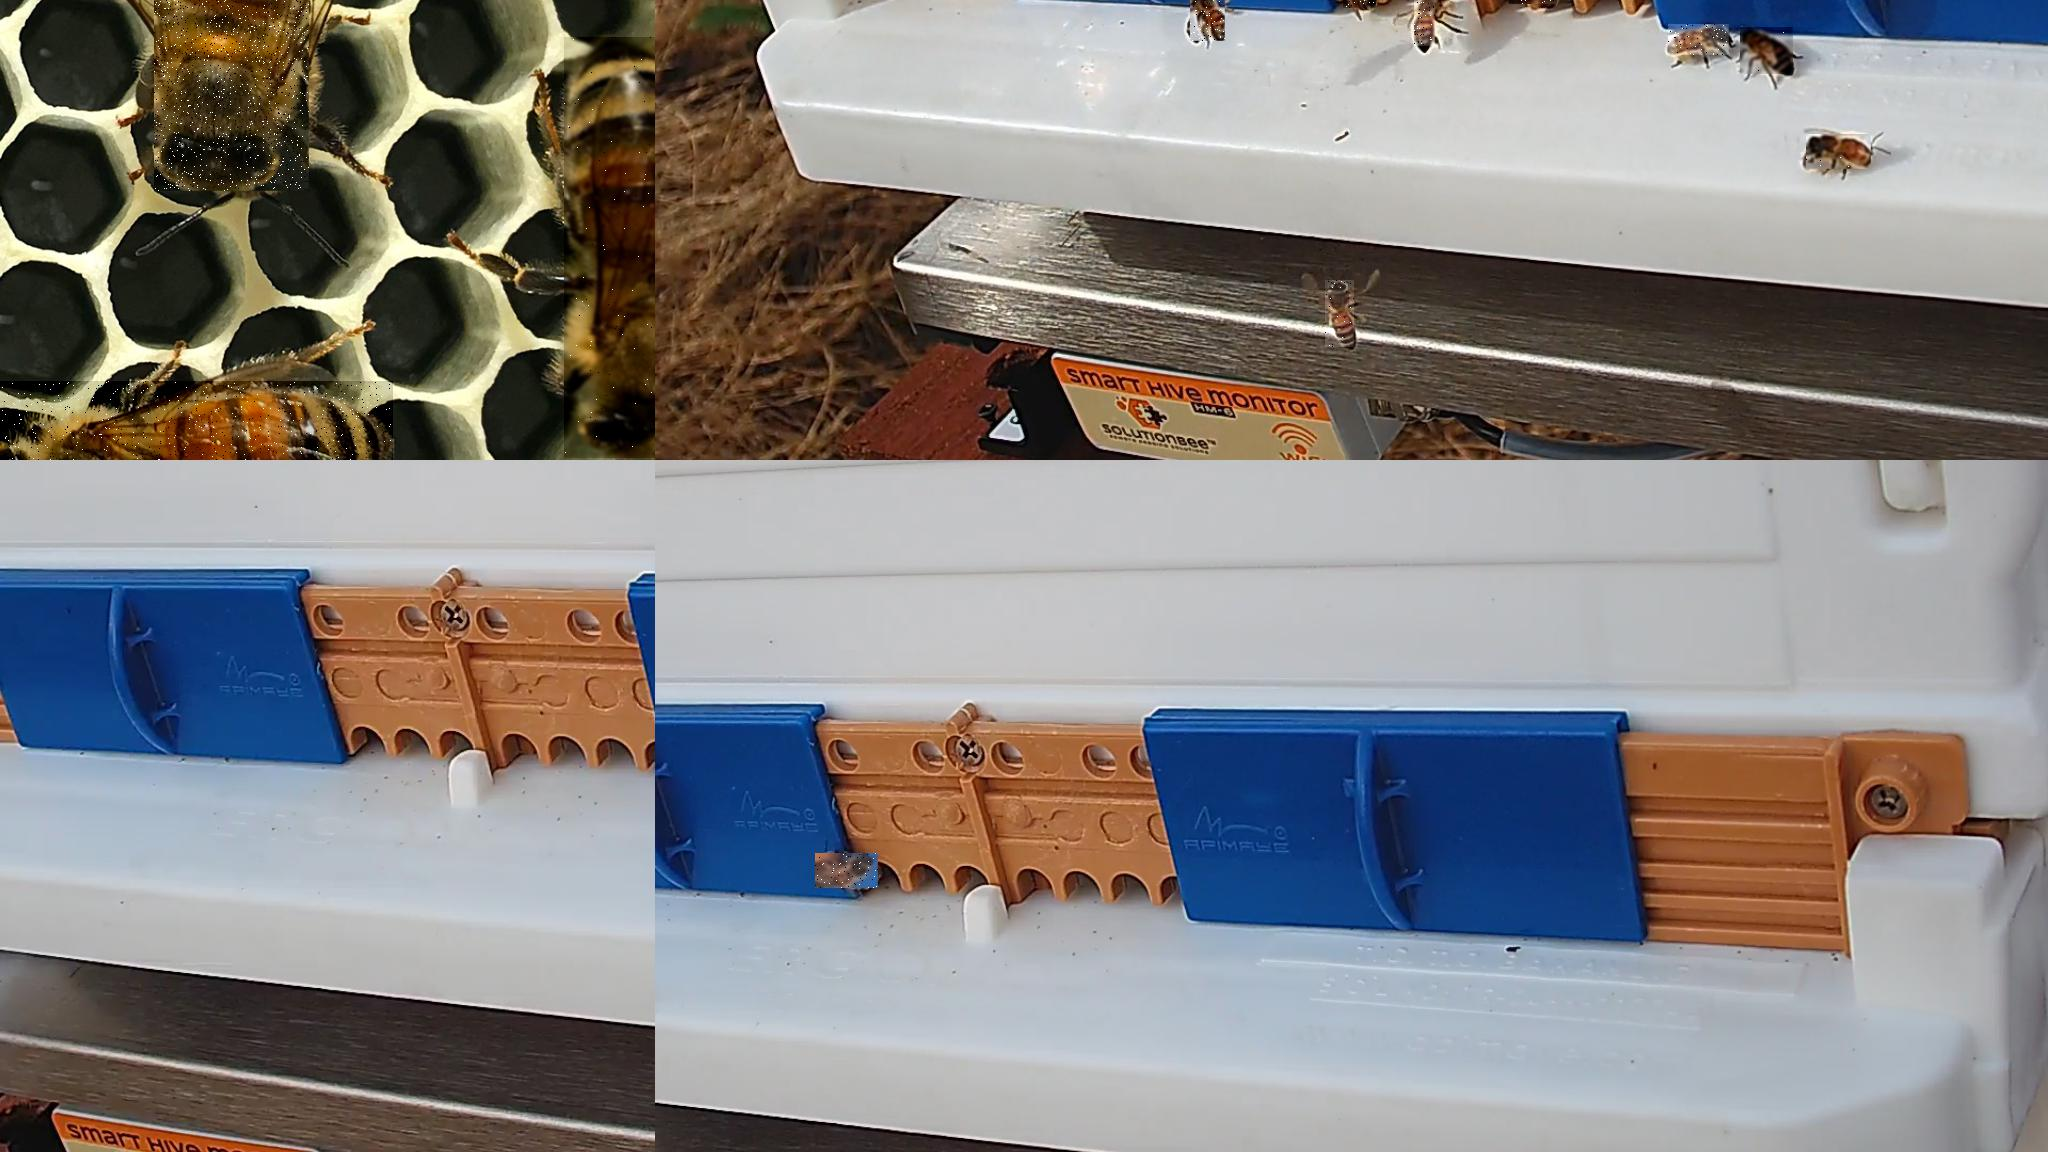bee: (564, 37, 654, 459), (0, 380, 394, 459), (153, 0, 311, 193), (1740, 27, 1793, 75), (1806, 134, 1872, 170), (814, 852, 879, 889), (1668, 24, 1730, 56), (1325, 280, 1355, 347), (1414, 0, 1438, 48)
pollenbee: (1189, 0, 1227, 42), (1343, 0, 1378, 10)
